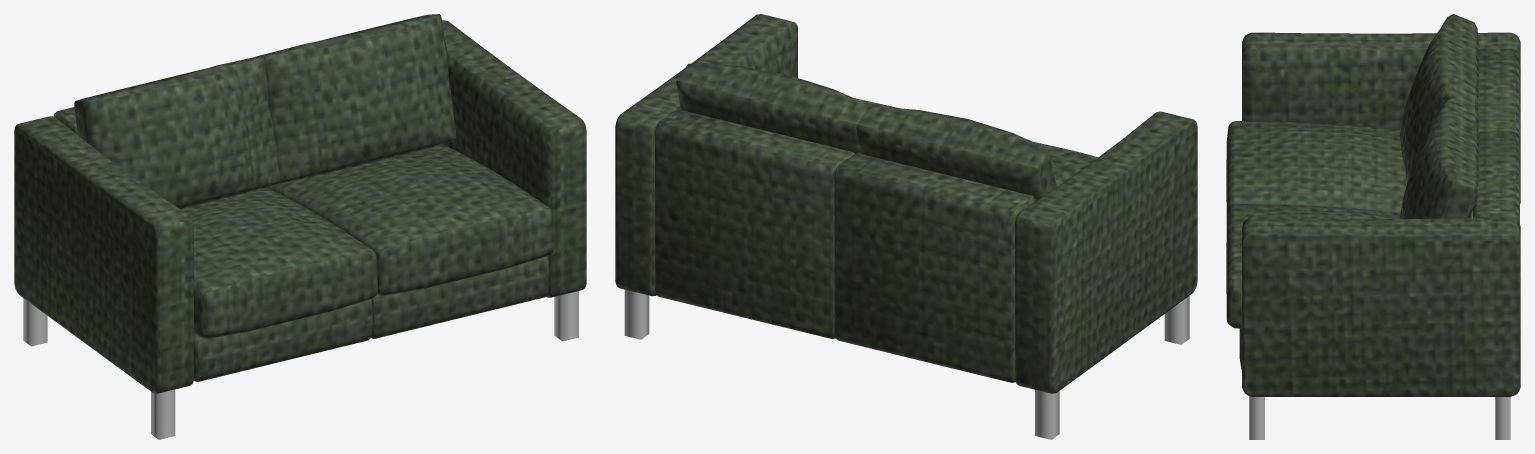
The model's file is SM_Living_Sofa_2P.fbx.
3 views of the same model, side by side, from view 1: azimuth 30°, elevation 25°; view 2: azimuth 150°, elevation 25°; view 3: azimuth 270°, elevation 25° (orthographic). The views are drawn at different scales.
Visible parts, largest first — view 1: Sofa_2P_ArmchairKarlstad; view 2: Sofa_2P_ArmchairKarlstad; view 3: Sofa_2P_ArmchairKarlstad.
Part boxes in pixels (left/top/right/bottom): Sofa_2P_ArmchairKarlstad: left=14, top=14, right=586, bottom=439; Sofa_2P_ArmchairKarlstad: left=615, top=14, right=1197, bottom=439; Sofa_2P_ArmchairKarlstad: left=1226, top=14, right=1520, bottom=439.
Bounding box in the file's own units: 1.41 × 0.8688 × 0.8103.
